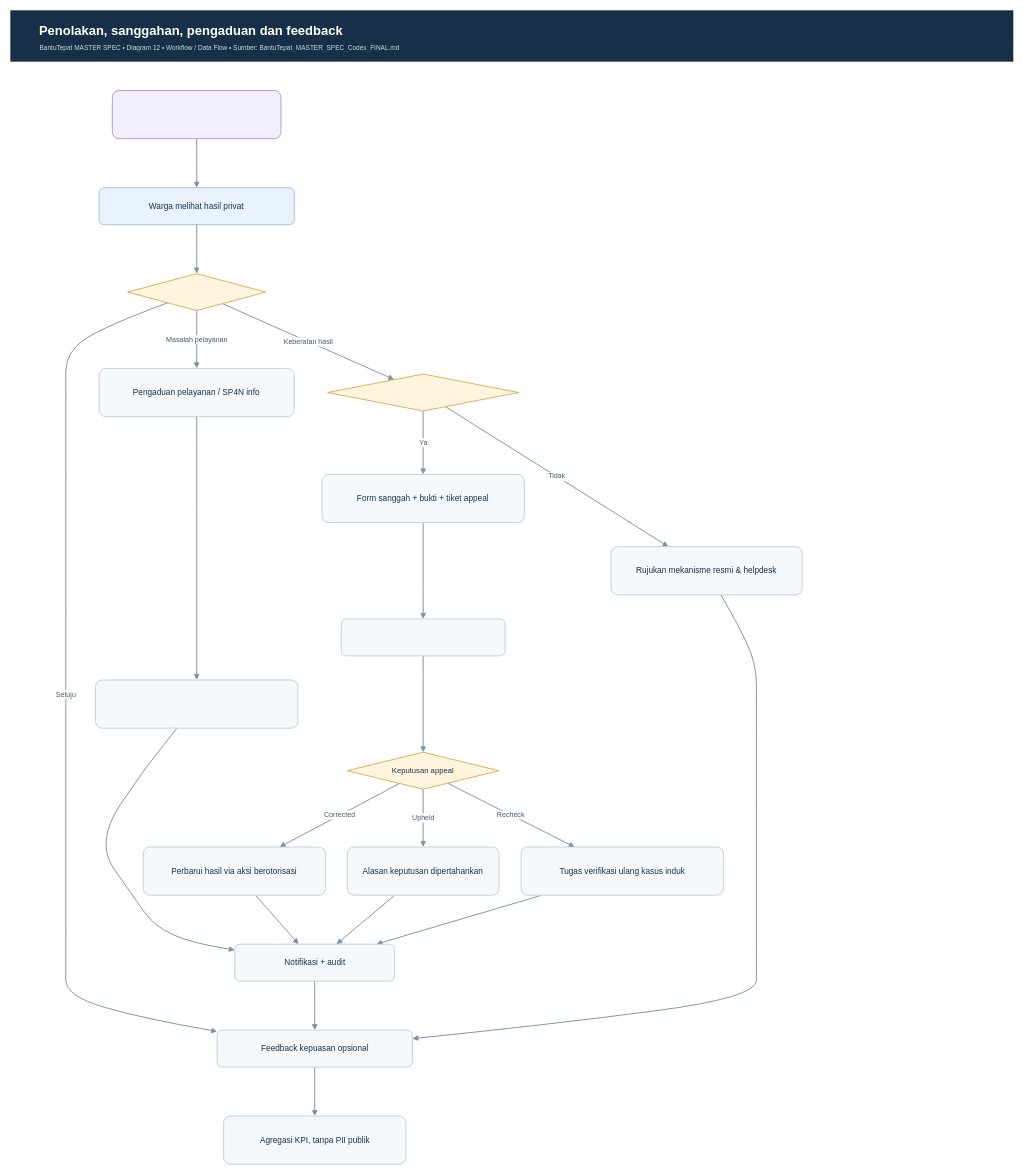
Some shapes in this 1023 by 1175 pixel diagram are drawn without their labels. The centre of each missing label's shape, as x and y in pixels:
Case selesai + hasil beralasan: (196,114)
Jalur sanggahan tersedia?: (423,392)
Reaksi warga?: (196,292)
Reviewer independen: (423,637)
Triage, assign, resolve atau refer: (196,703)
